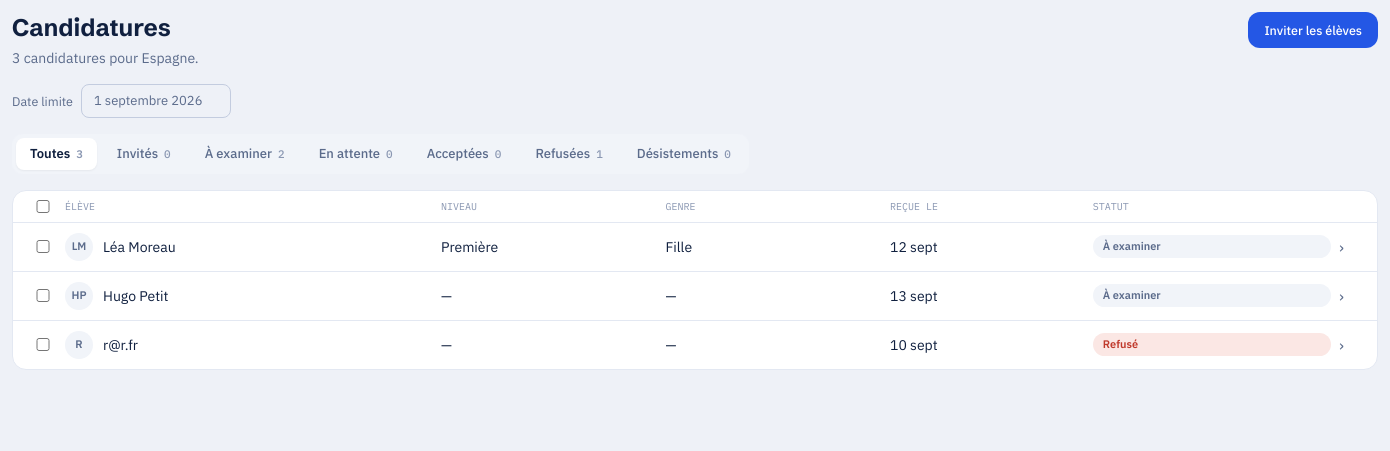
it: CandidaturesView › select-all checkbox selects the filtered rows
Click the checkbox in the row of "Niveau". click: (43, 206)
box: [29,200,57,212]
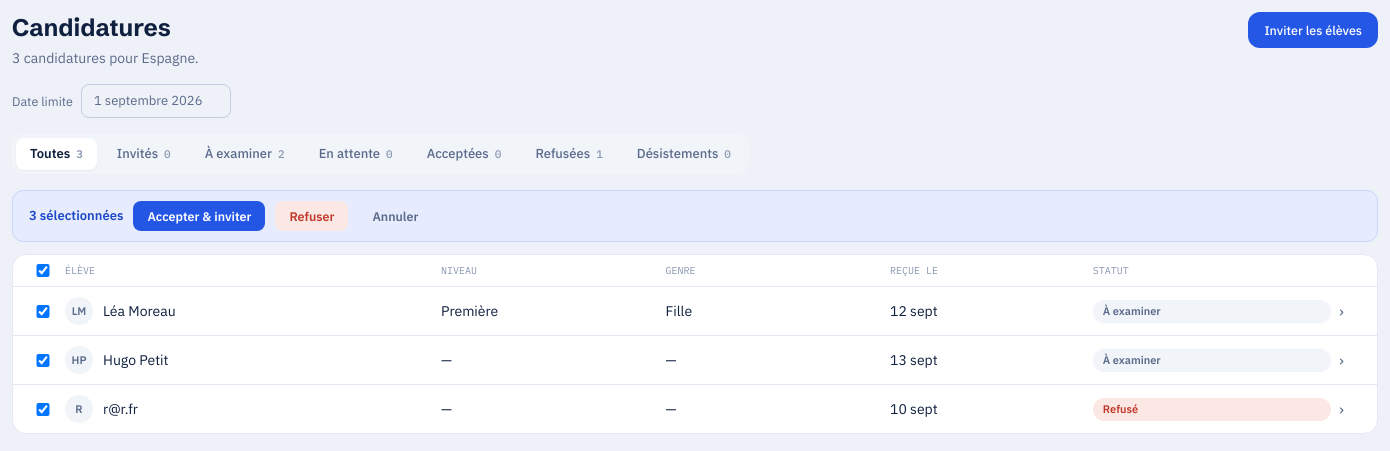
Expected: the text "3 sélectionnées" is shown, [29,206,123,226]
